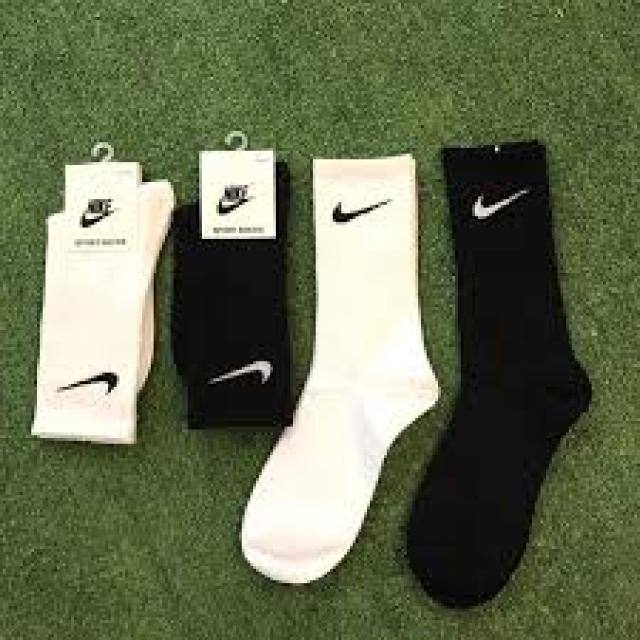sock: (404, 136, 592, 608), (239, 151, 441, 583)
